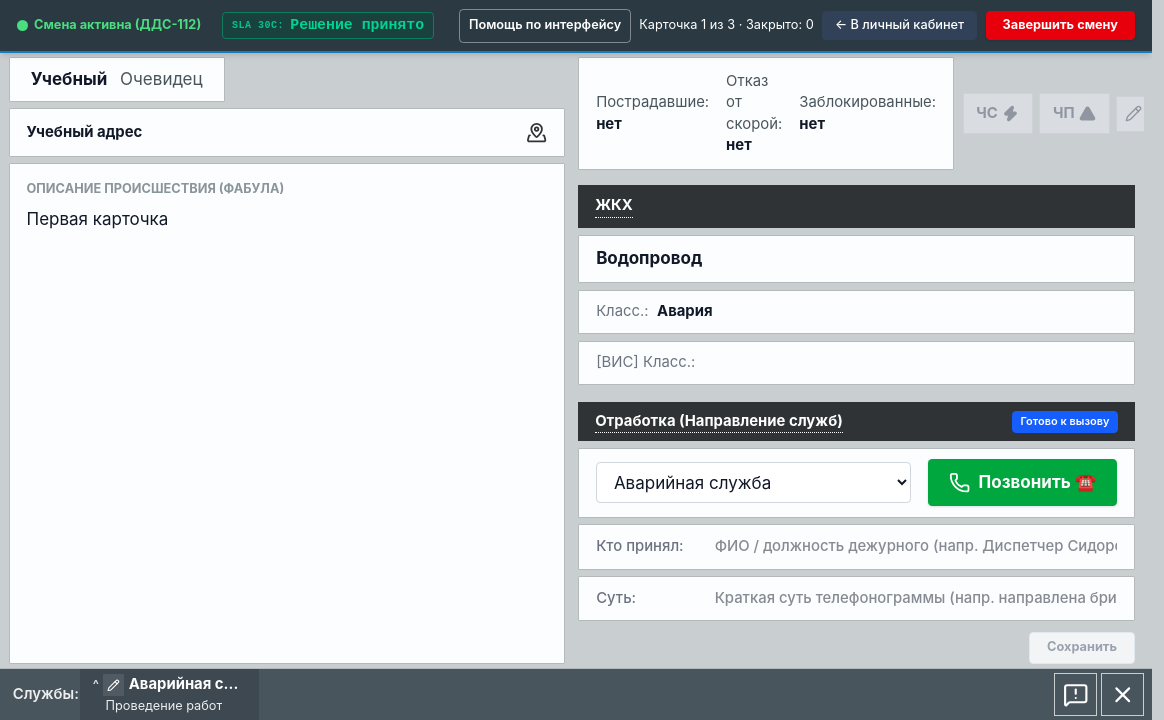
Scenario: policy rejections allow correction instead of locking all controls for retry
Click the button named "Отработана" at (1076, 695), box [1054,673,1097,716]
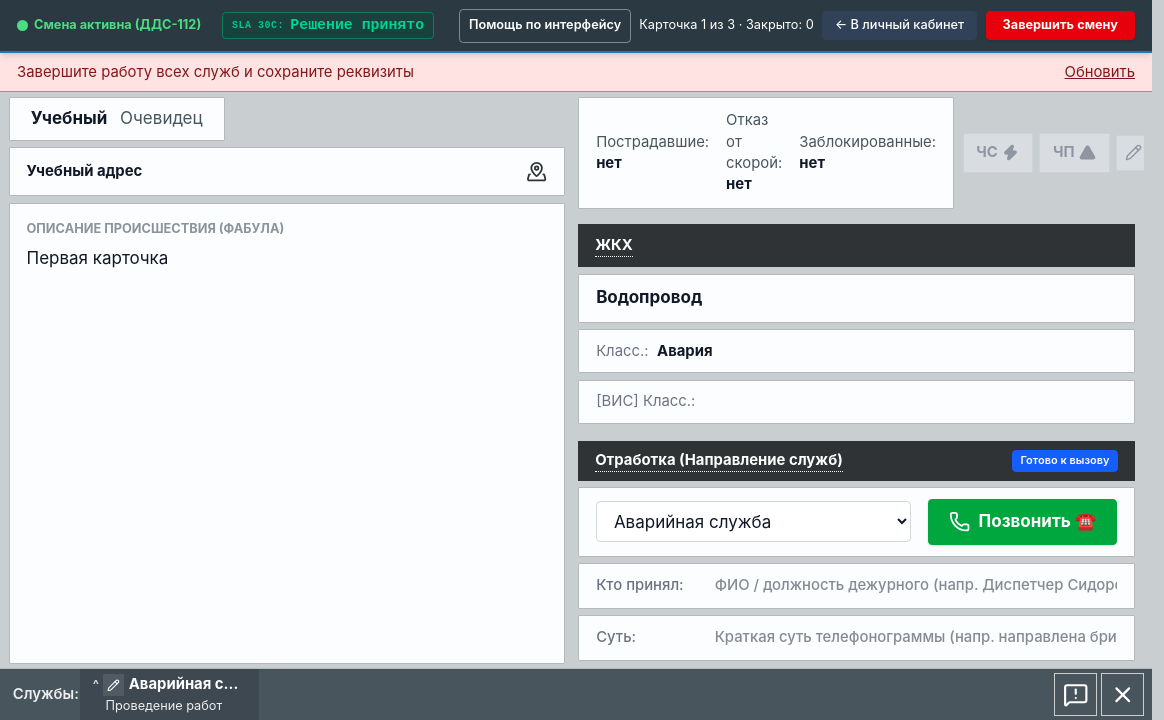
expect the button "Завершить смену" is enabled: met, box [986,11,1135,40]
expect the message shows "Завершите работу": met, box [17,62,414,80]
